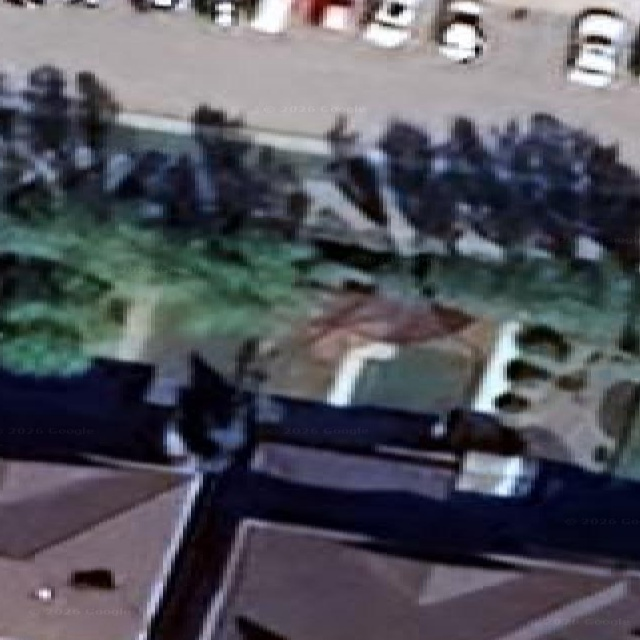car: (567, 10, 625, 87), (437, 0, 485, 62), (363, 0, 419, 48)
